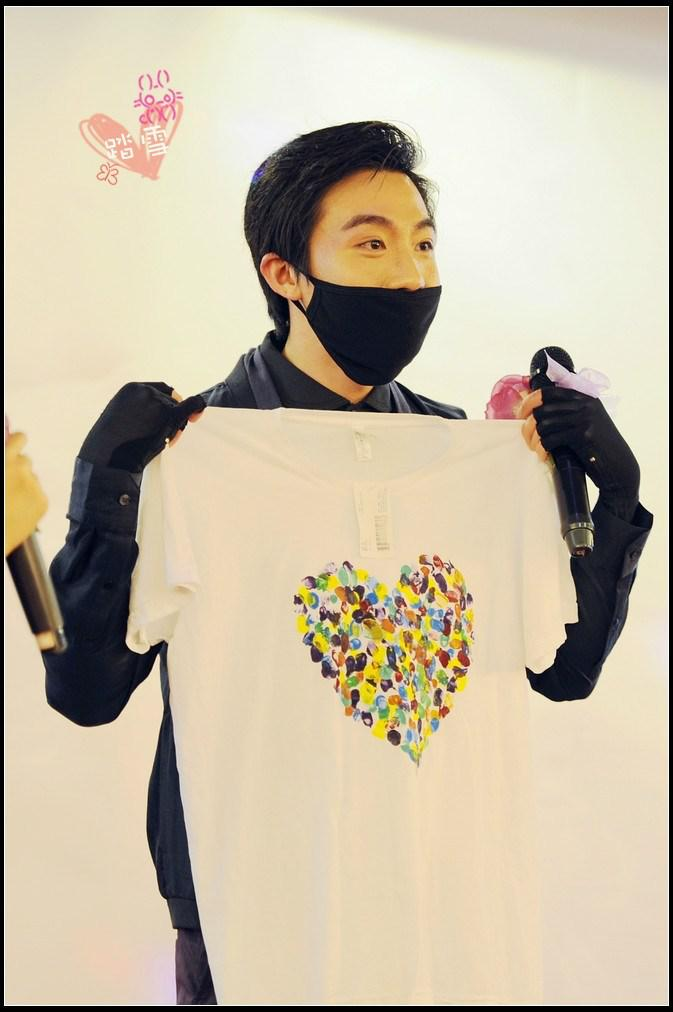WRONG: (293, 209, 458, 374)
